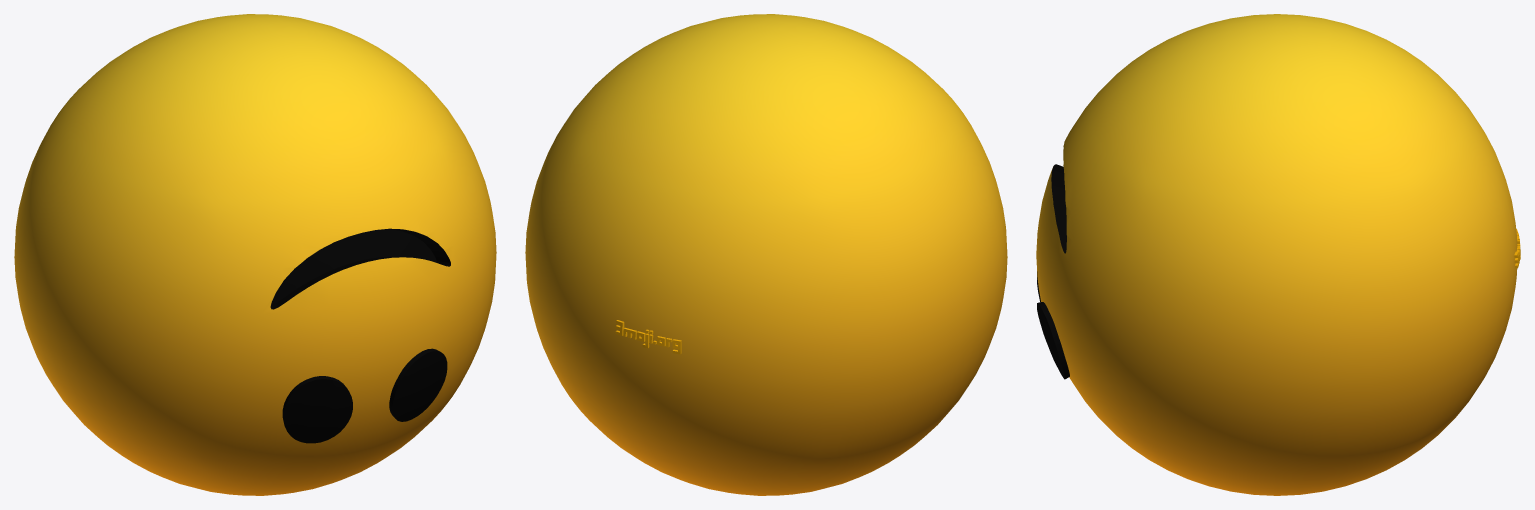
Rendered from upside_down_face.fbx.
The picture shows the model from 3 angles, left to right: view 1: azimuth 30°, elevation 25°; view 2: azimuth 150°, elevation 25°; view 3: azimuth 270°, elevation 25°; orthographic projection.
Parts seen in each view (by area): view 1: Upside-down Face; view 2: Upside-down Face; view 3: Upside-down Face.
Boxes of the visible parts, bbox=[...] form: Upside-down Face: bbox=[14, 14, 496, 495]; Upside-down Face: bbox=[525, 14, 1007, 495]; Upside-down Face: bbox=[1036, 14, 1520, 495].
Size of the model in its own units: 169 by 169 by 170.
1 material, 1 textured.
